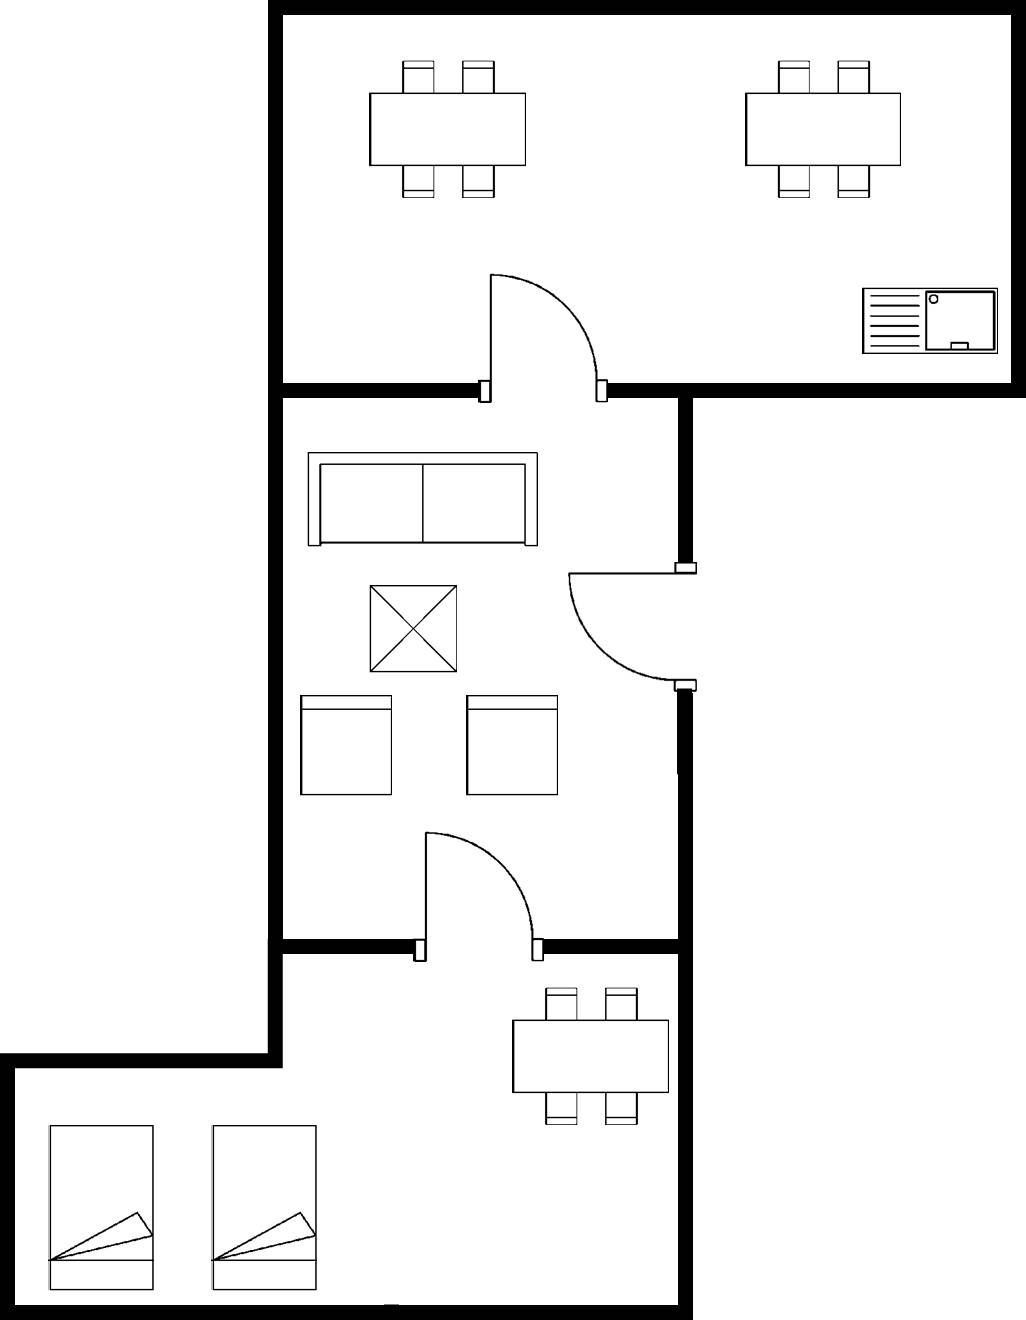bed: (206, 1117, 329, 1297), (43, 1119, 161, 1297)
dining_table: (734, 49, 916, 206), (503, 979, 674, 1139), (362, 53, 533, 207), (362, 579, 467, 683)
large_sofa: (299, 444, 547, 557)
sink: (853, 279, 1003, 362)
small_sofa: (293, 688, 404, 802), (462, 690, 570, 807)
